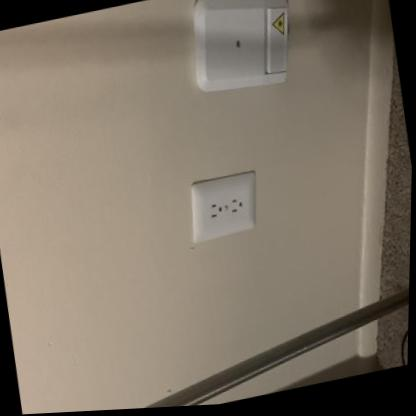OUTLET: (182, 170, 262, 244)
